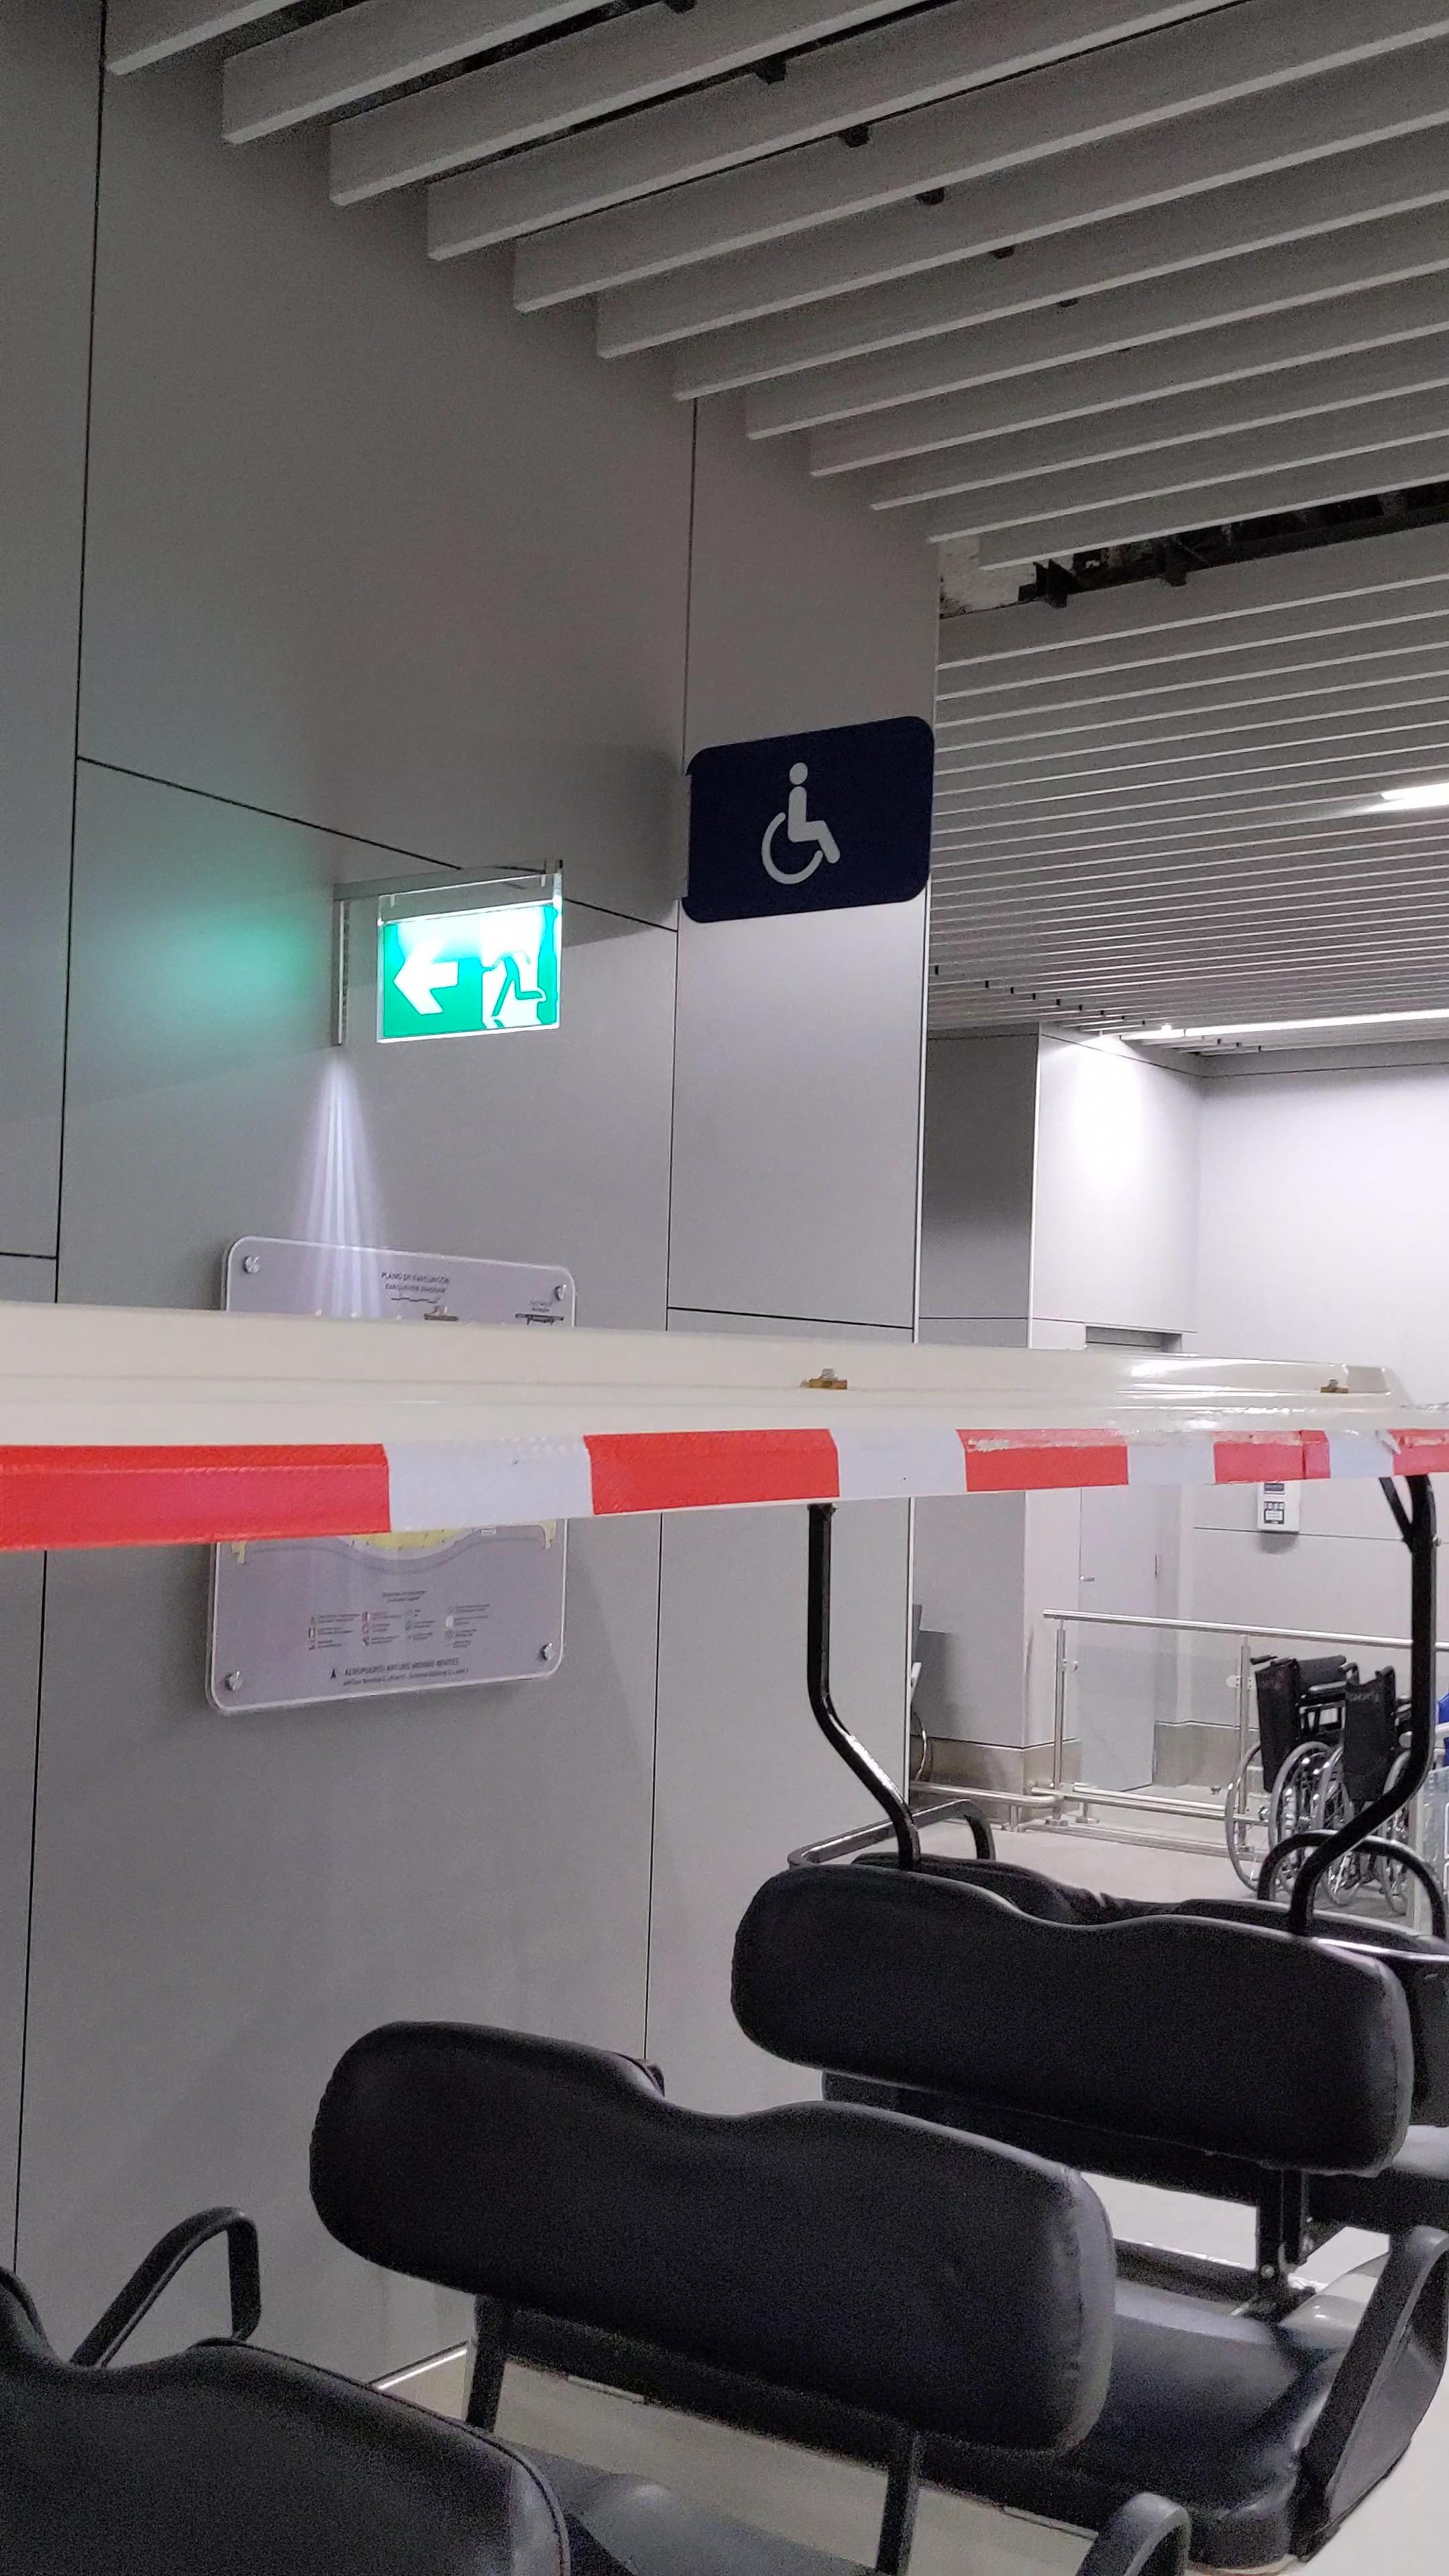emergency exit: (474, 911, 548, 1030)
emergency left arrow: (393, 936, 460, 1016)
handicapped symbol: (757, 761, 844, 888)
